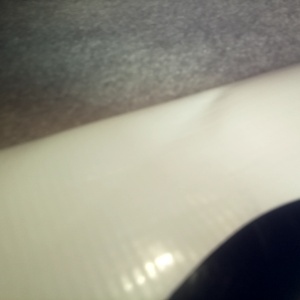bottom_left: (135, 105, 280, 169)
